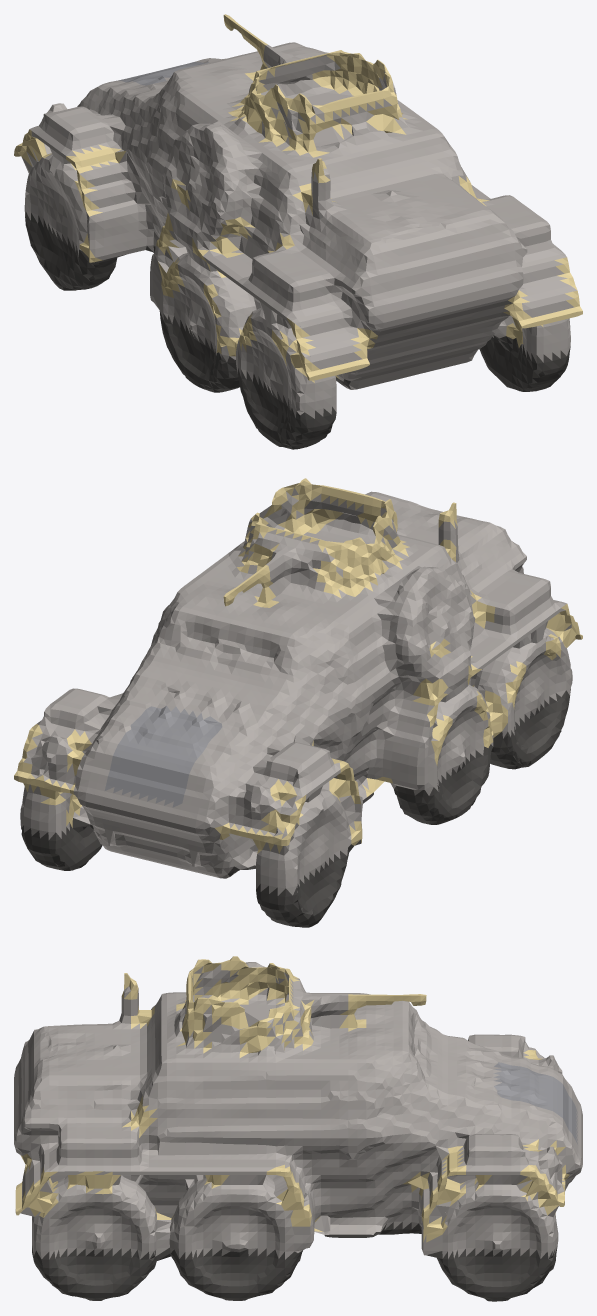
File: unit_outrider.glb
The picture shows the model from 3 angles, top to bottom: view 1: azimuth 30°, elevation 25°; view 2: azimuth 150°, elevation 25°; view 3: azimuth 270°, elevation 25°; orthographic projection. The views are drawn at different scales.
Visible parts, largest first — view 1: Mesh_0.026; view 2: Mesh_0.026; view 3: Mesh_0.026.
Part boxes in pixels (bbox=[...]): Mesh_0.026: bbox=[14, 14, 582, 449]; Mesh_0.026: bbox=[14, 478, 582, 927]; Mesh_0.026: bbox=[14, 956, 582, 1301].
Bounding box in the file's own units: 1.41 × 1.4 × 2.7.
